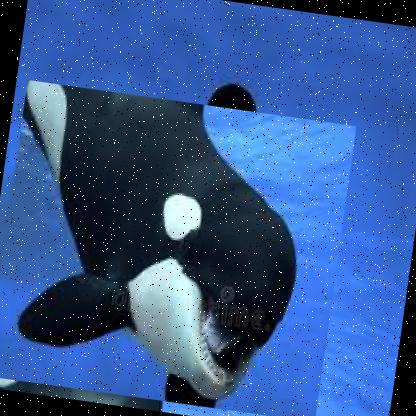killer_whale: (0, 79, 358, 415)
